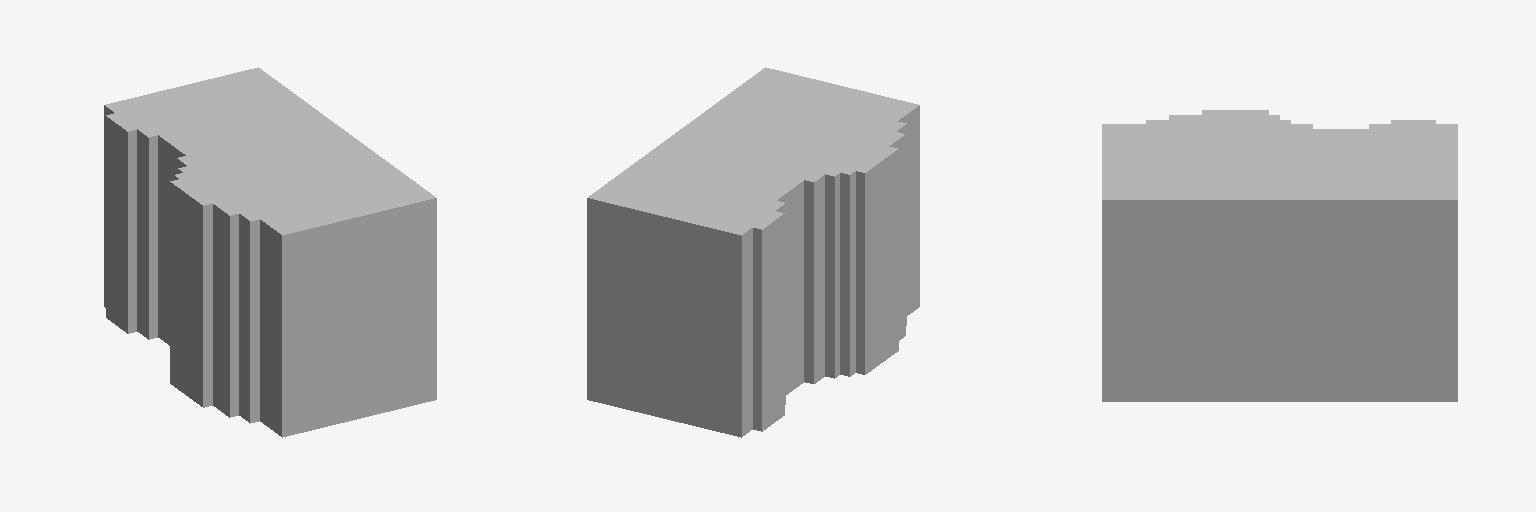
The model's file is pondtile-4.obj.
The picture shows the model from 3 angles: view 1: azimuth 30°, elevation 25°; view 2: azimuth 150°, elevation 25°; view 3: azimuth 270°, elevation 25°; orthographic projection.
Parts seen in each view (by area): view 1: pondtile-4; view 2: pondtile-4; view 3: pondtile-4.
Part boxes in pixels (x1,y1,x2,y2): pondtile-4: (104, 67, 436, 437); pondtile-4: (587, 67, 919, 437); pondtile-4: (1102, 110, 1457, 401).
Bounding box in the file's own units: 1.9 × 2 × 3.2.